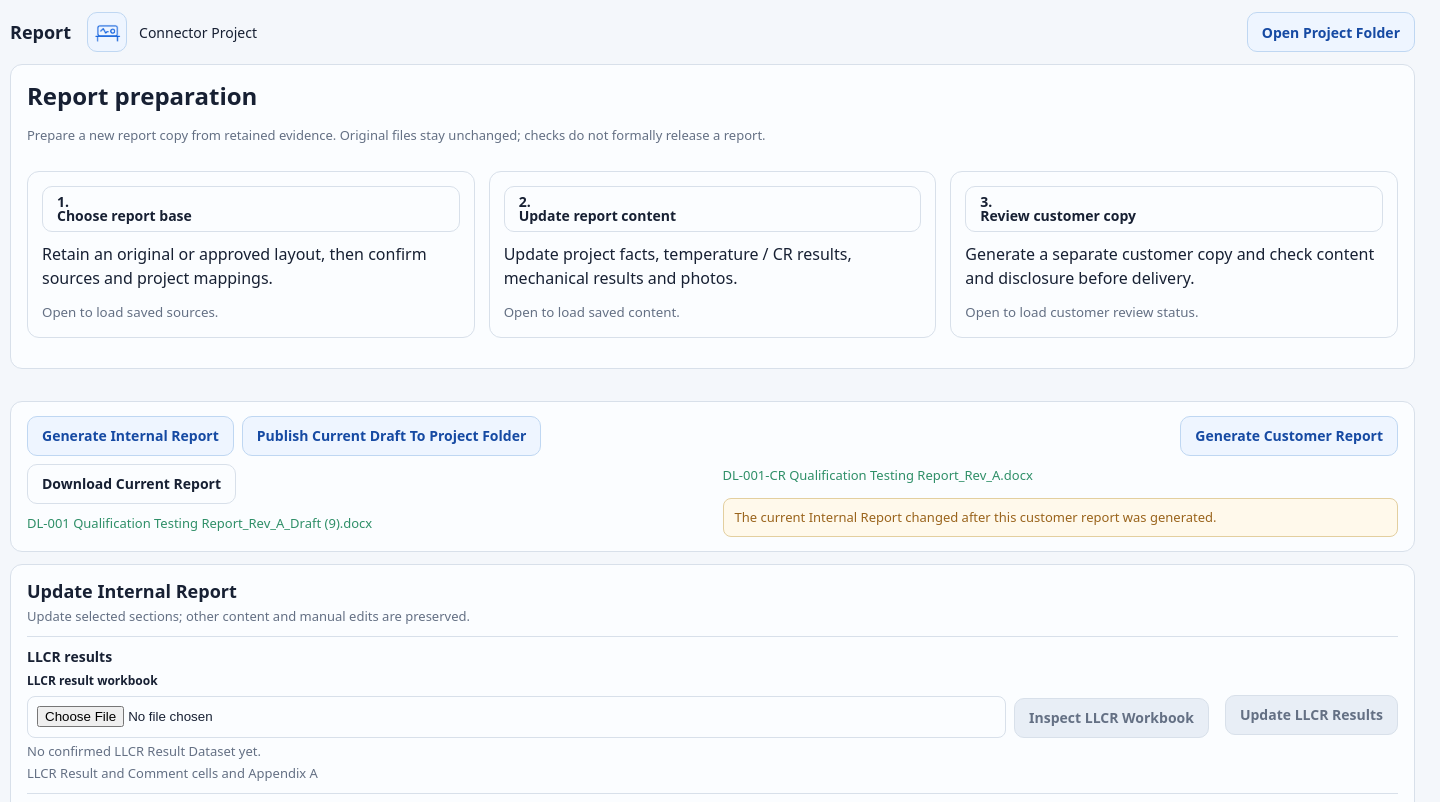
Scenario: ReportWorkspace › publishes the current managed draft to the official project folder explicitly
The width and height of the screenshot is (1440, 802).
Expected: the text "DL-001 Qualification Testing Report_Rev_A_Draft (9).docx" is shown, [27,514,372,532]
Expected: the button "Download Current Report" is shown, [27,464,236,504]
Click the button "Publish Current Draft To Project Folder" at (392, 436), box [242,416,541,456]
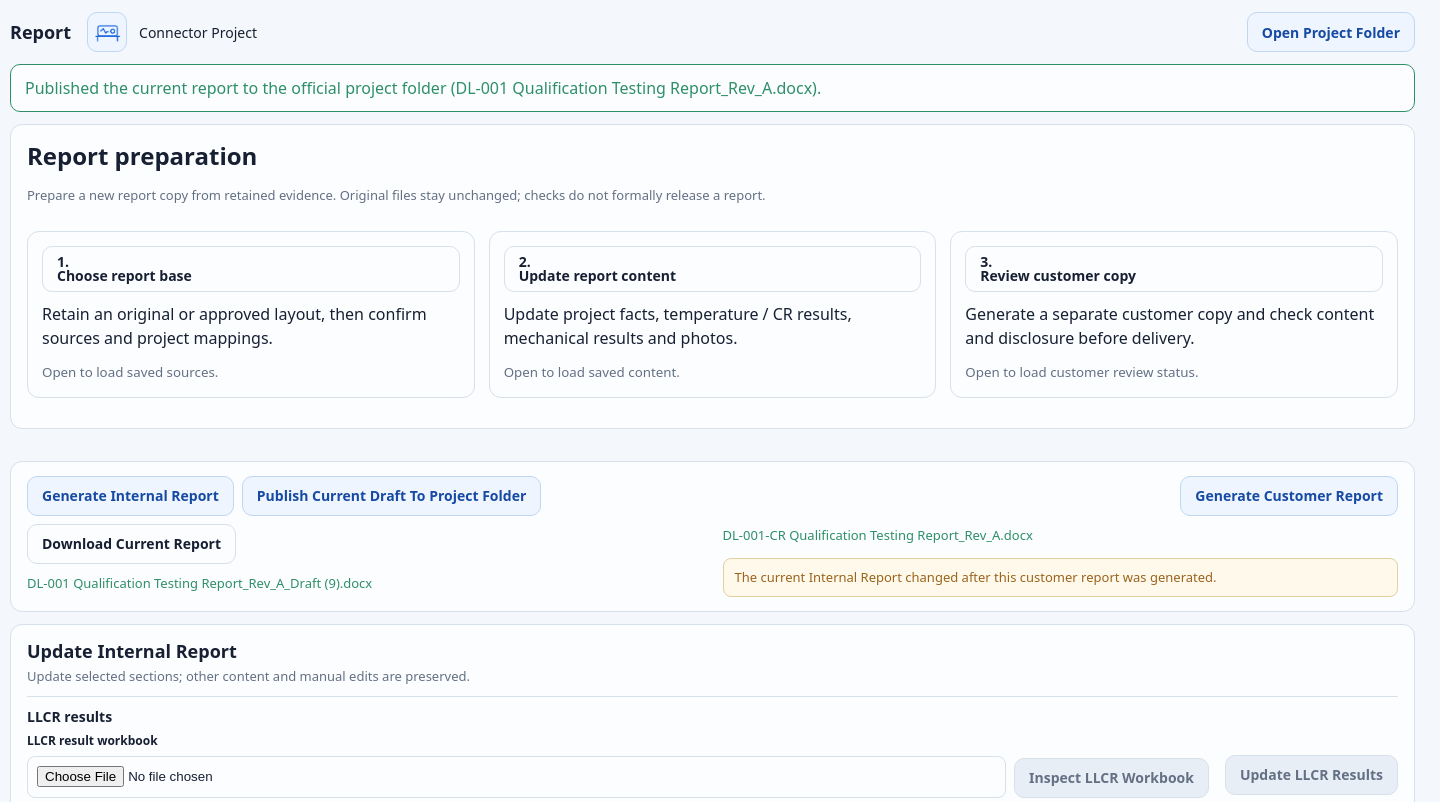
Now the text "Published the current report to" is shown, box [25,77,821,99]
